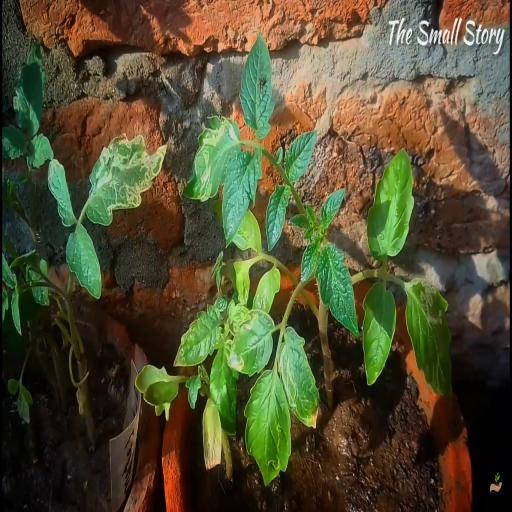Healthy: (366, 150, 414, 258), (315, 242, 360, 336), (222, 146, 262, 246), (362, 280, 397, 387), (66, 223, 102, 301), (265, 180, 291, 252), (282, 130, 317, 182)
Leaf_Miner: (82, 135, 168, 228), (406, 276, 453, 400), (244, 371, 292, 487), (183, 114, 241, 205), (278, 325, 320, 430), (173, 304, 224, 369), (229, 309, 275, 375), (47, 158, 78, 227)
